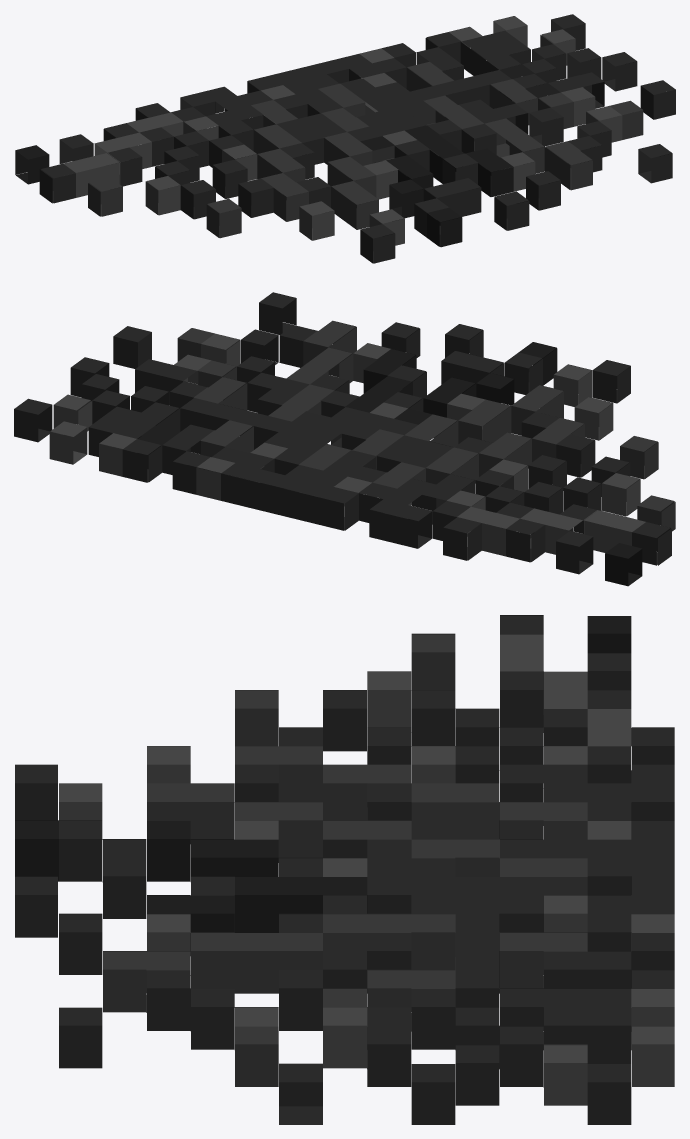
Rendered from scorchmark_5.gltf.
3 views of the same model, one above another, from view 1: azimuth 30°, elevation 25°; view 2: azimuth 150°, elevation 25°; view 3: azimuth 270°, elevation 25° (orthographic). The views are drawn at different scales.
Visible parts, largest first — view 1: scorchmark_5; view 2: scorchmark_5; view 3: scorchmark_5.
Part boxes in pixels (x1=…): scorchmark_5: x1=15, y1=14, x2=675, y2=263; scorchmark_5: x1=14, y1=292, x2=675, y2=586; scorchmark_5: x1=15, y1=615, x2=674, y2=1124.
Size of the model in its own units: 2.39 by 0.1015 by 1.43.
1 material, 1 textured.
